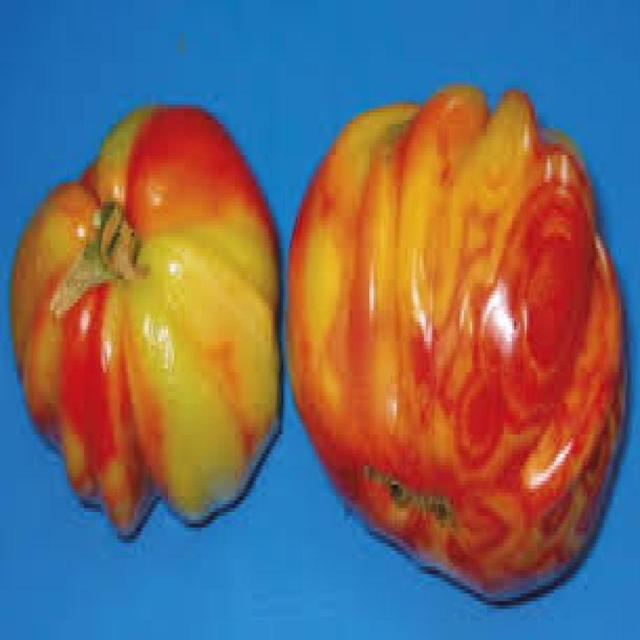Spotted wilt Virus Fruit: (7, 127, 203, 181)
